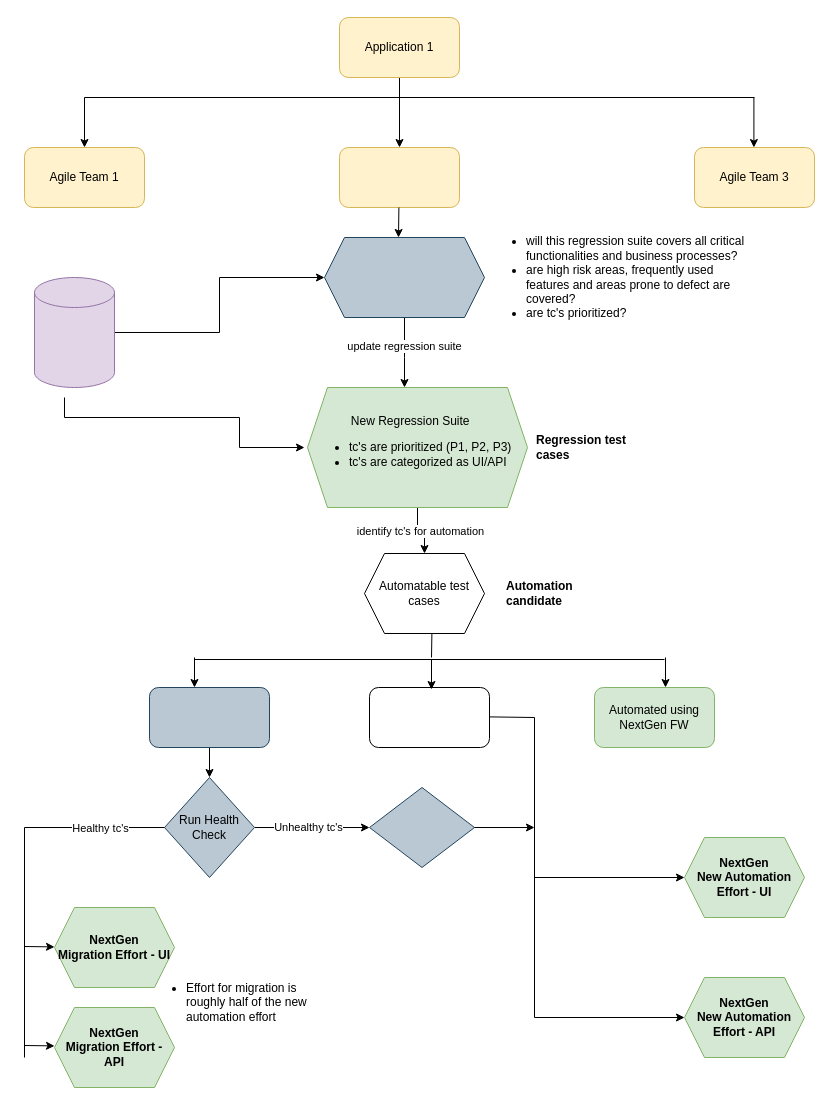
This 832x1105 diagram has some shape labels left out. Each missing label, with the centre of its shape:
"Agile Team 2" belongs at point (399, 177).
"ALM" belongs at point (74, 332).
"Automated using Attra FW" belongs at point (209, 717).
"migration or new automation?" belongs at point (421, 827).
"Pending for automation" belongs at point (429, 717).
"Regression Suite (provided by Atrra)" belongs at point (404, 277).
